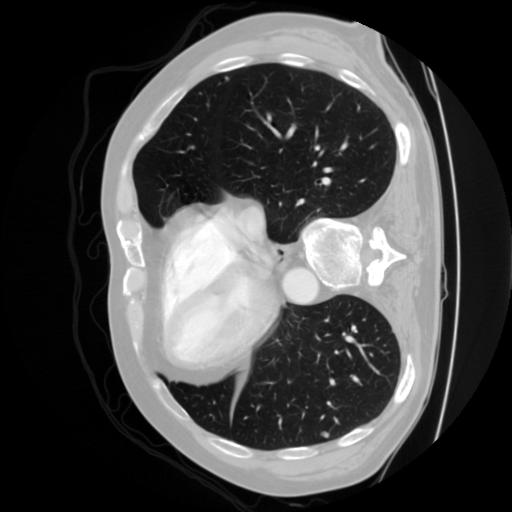nodule: (318, 427, 330, 439)
